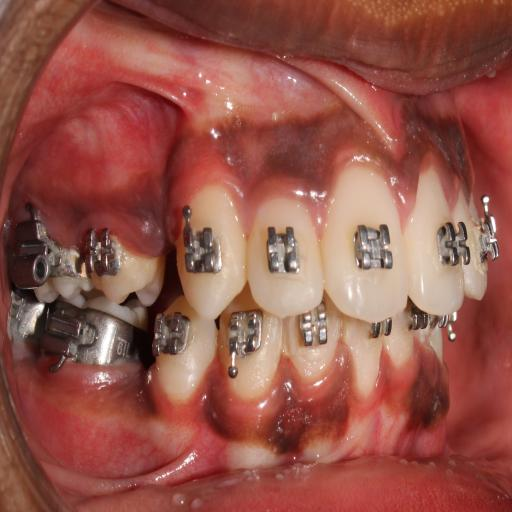correct_brace: (89, 224, 164, 318), (353, 208, 394, 283), (176, 216, 225, 278), (263, 214, 306, 280), (432, 207, 474, 271)
incorrect_brace: (247, 186, 322, 322), (85, 217, 125, 283)
